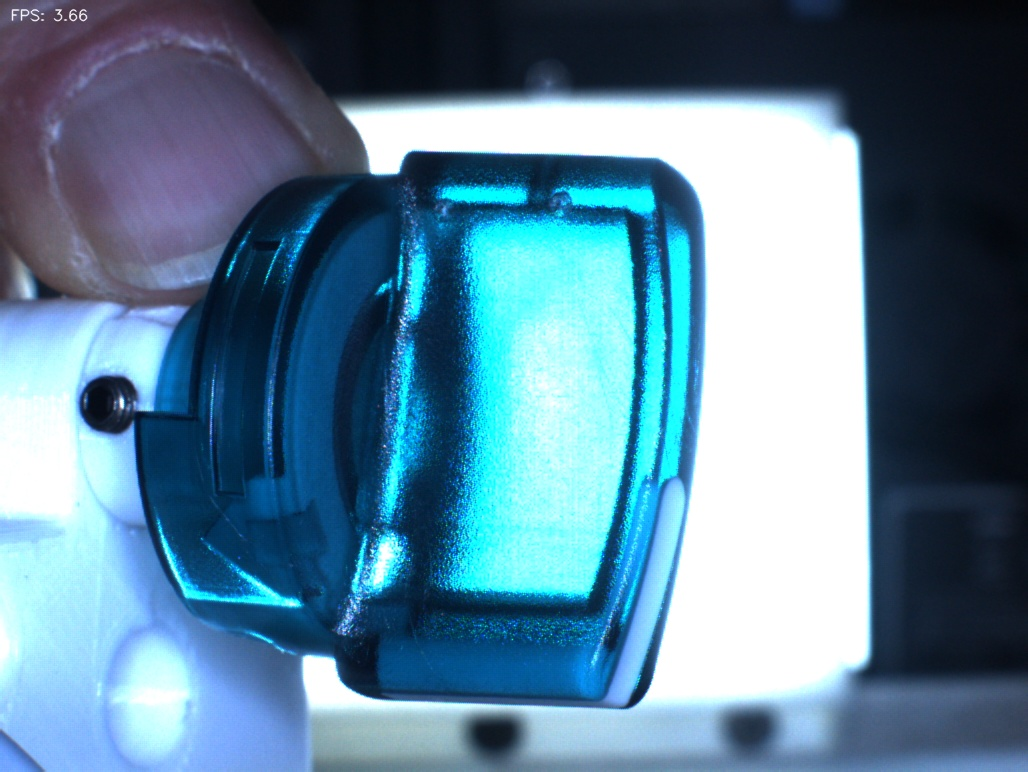Bulle: (516, 168, 608, 260)
